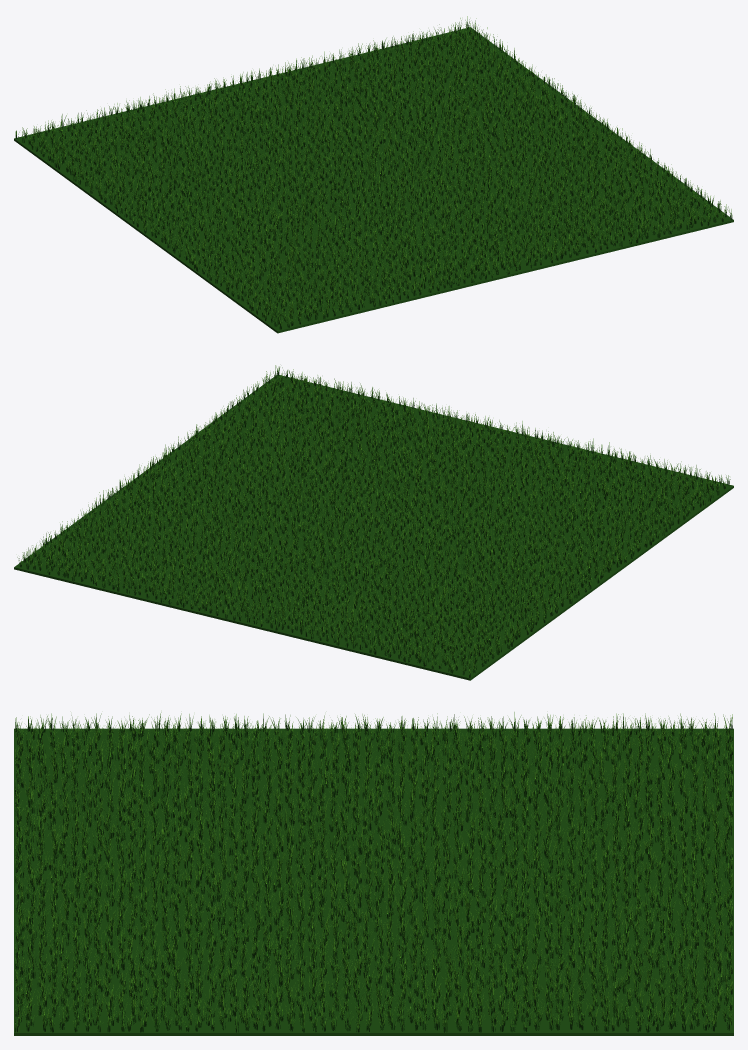
File: ground.fbx
3 views of the same model, one above another, from view 1: azimuth 30°, elevation 25°; view 2: azimuth 150°, elevation 25°; view 3: azimuth 270°, elevation 25° (orthographic). The views are drawn at different scales.
Visible parts, largest first — view 1: Green_Grass_Ground; view 2: Green_Grass_Ground; view 3: Green_Grass_Ground.
Boxes of the visible parts, bbox=[...] form: Green_Grass_Ground: bbox=[14, 16, 733, 333]; Green_Grass_Ground: bbox=[14, 365, 733, 680]; Green_Grass_Ground: bbox=[14, 712, 733, 1035].
Bounding box in the file's own units: 800 × 29.32 × 800.
